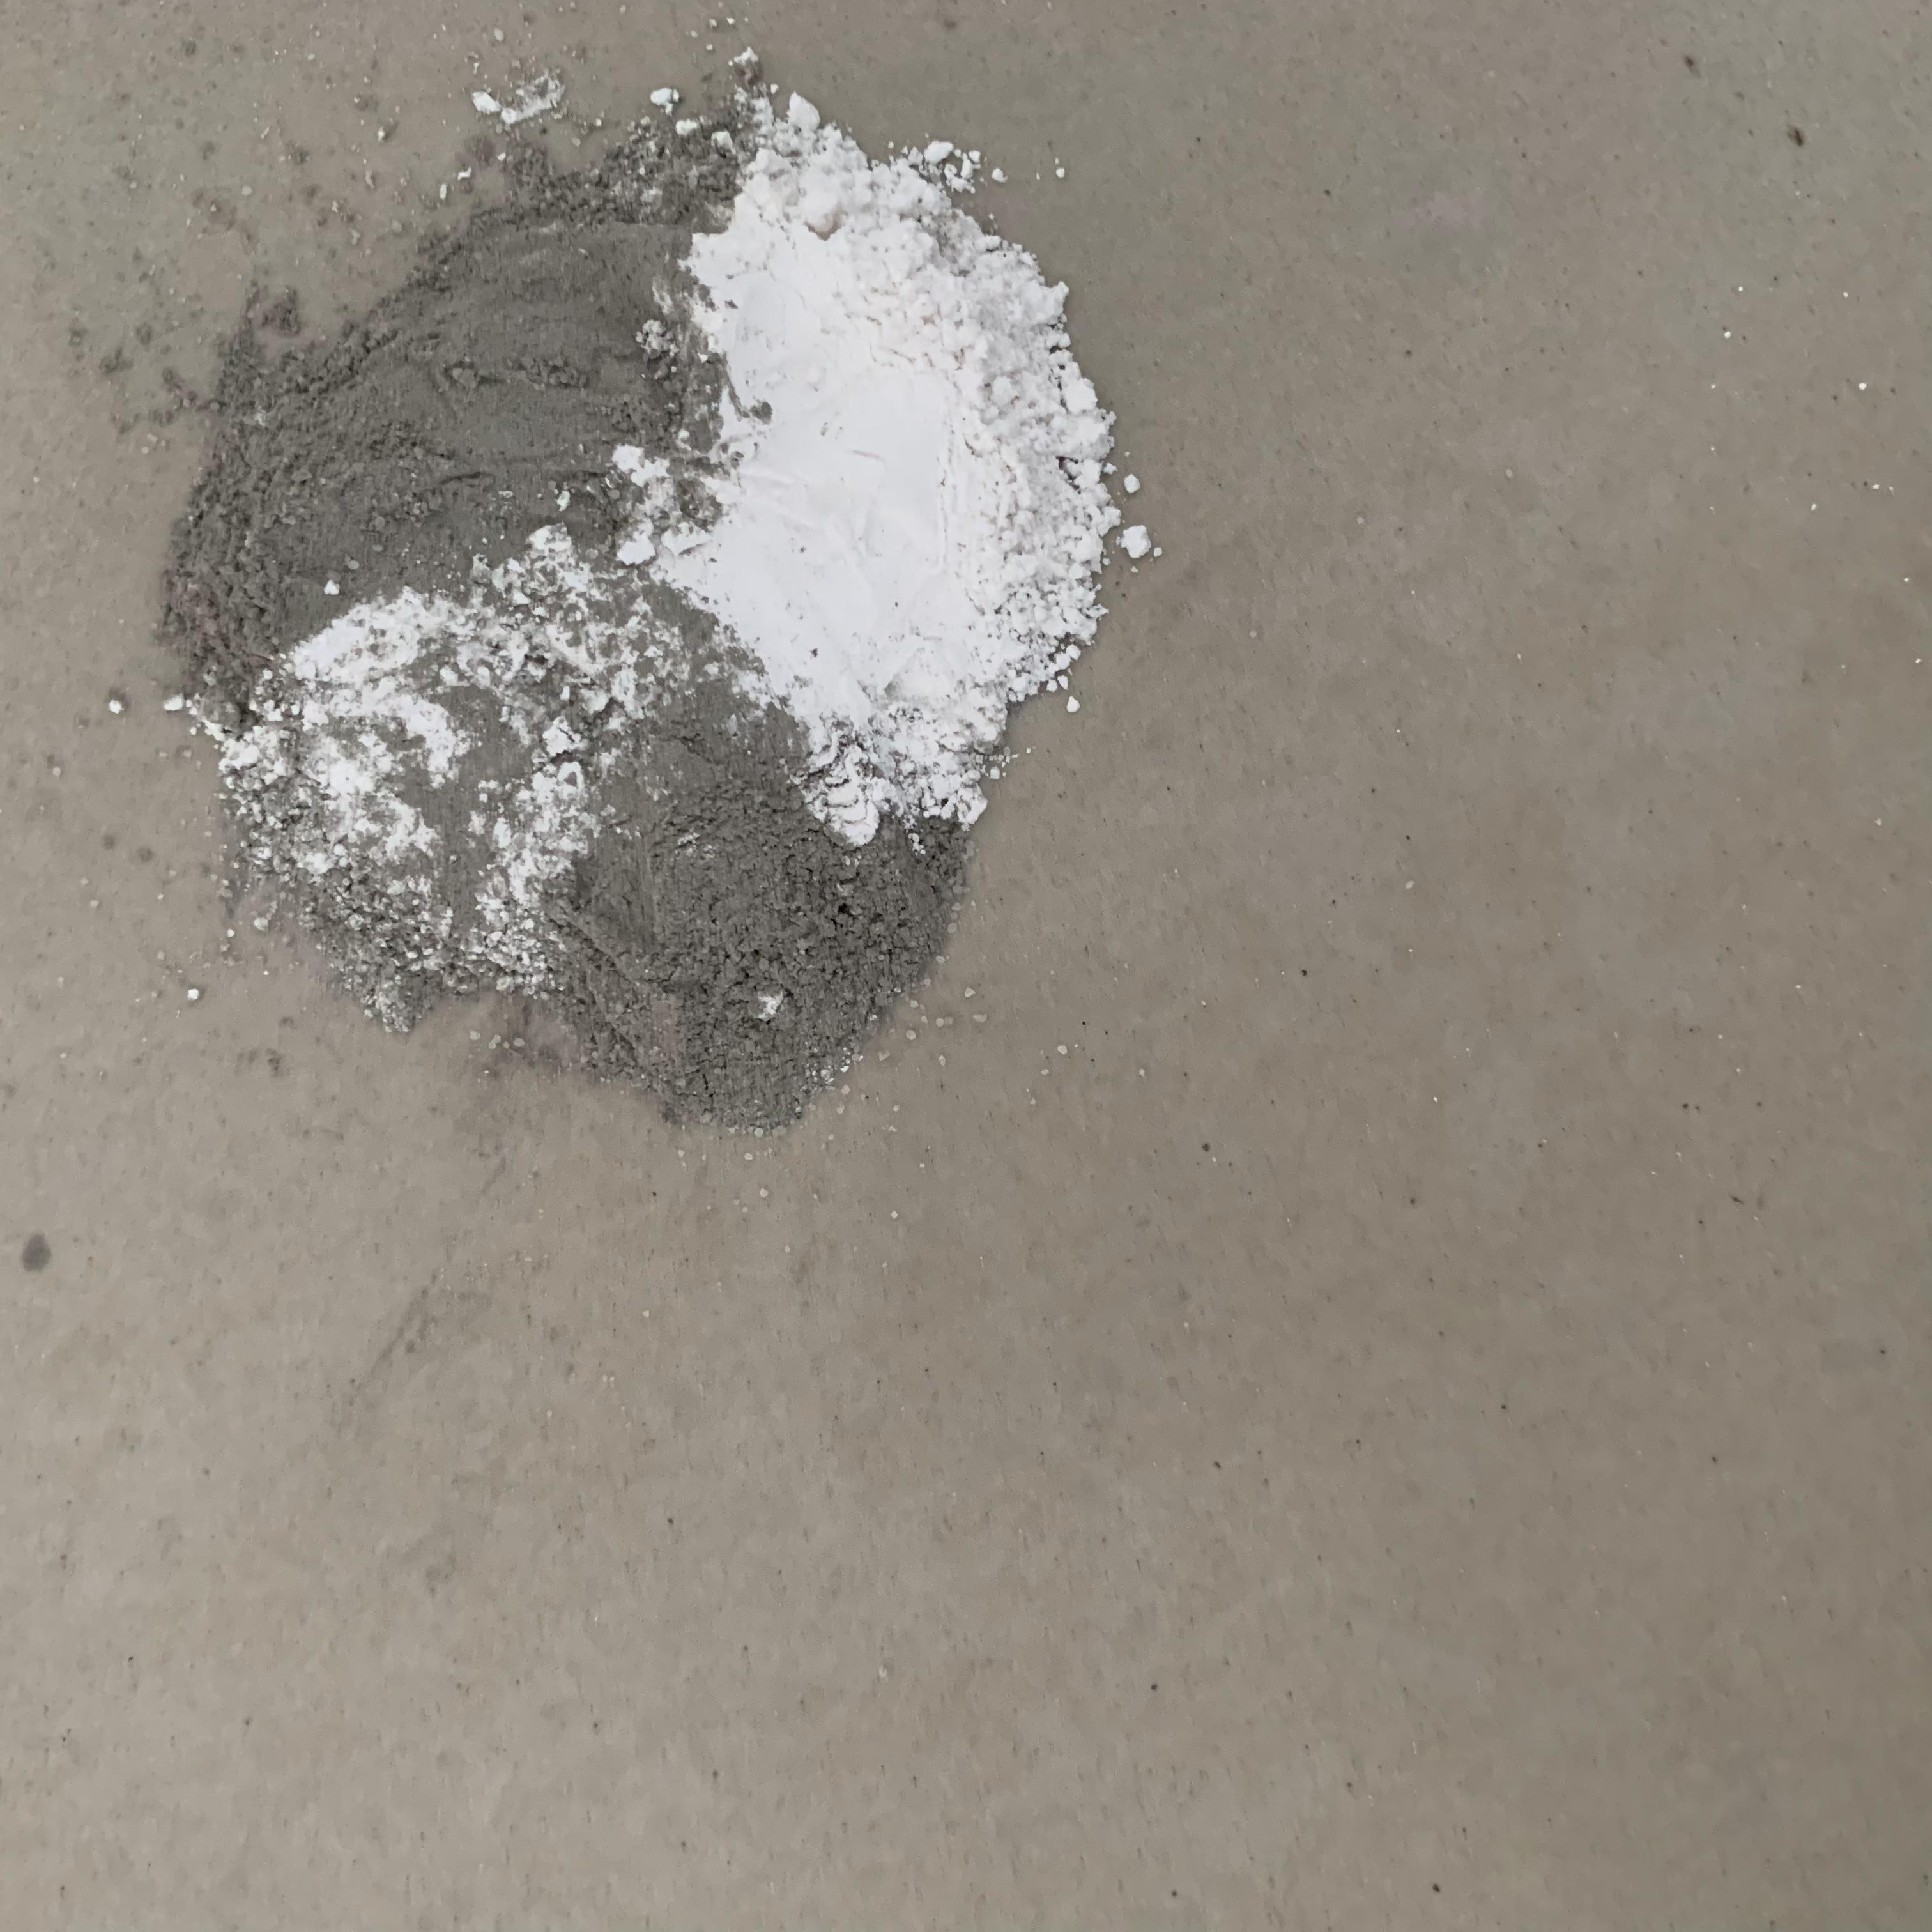ash pile: (64, 11, 1166, 1131)
